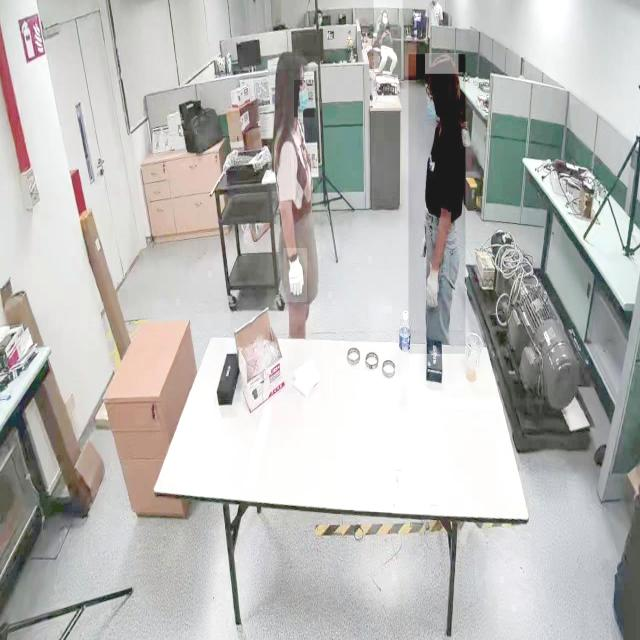face_mask: (294, 80, 314, 117), (380, 10, 388, 26)
hand_glove: (284, 248, 308, 303), (424, 262, 444, 316)
hand_noglove: (386, 26, 390, 34), (381, 31, 387, 36)
head_nohelmet: (425, 53, 459, 75), (275, 49, 303, 70), (380, 8, 388, 12)
person: (408, 54, 466, 355), (267, 56, 321, 333), (373, 0, 403, 84)
